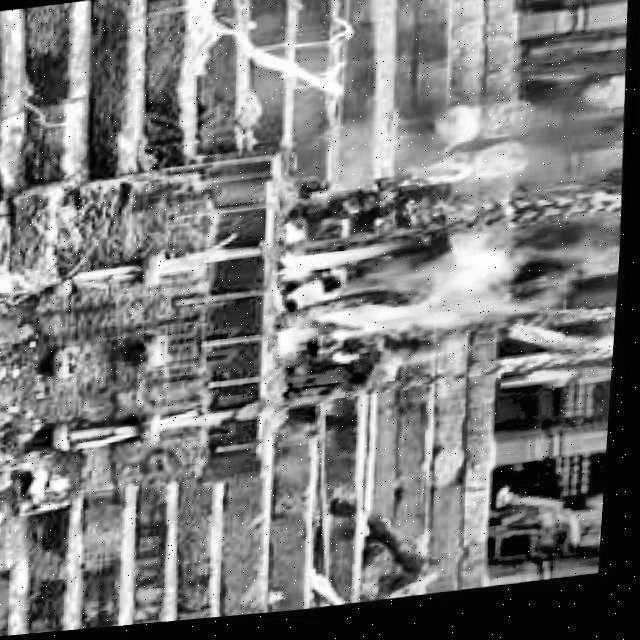Fire: (269, 223, 569, 367)
